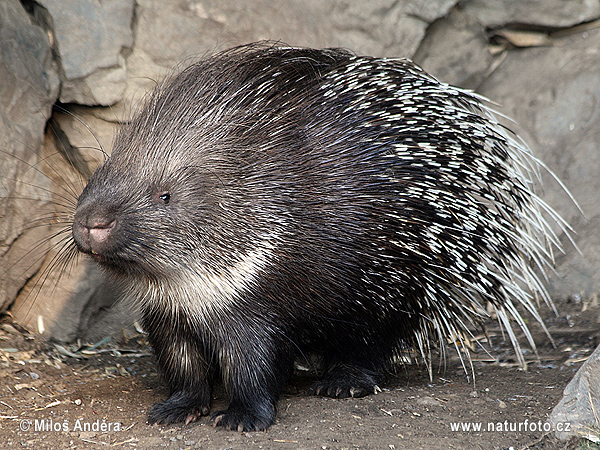porcupine: (57, 40, 562, 429)
